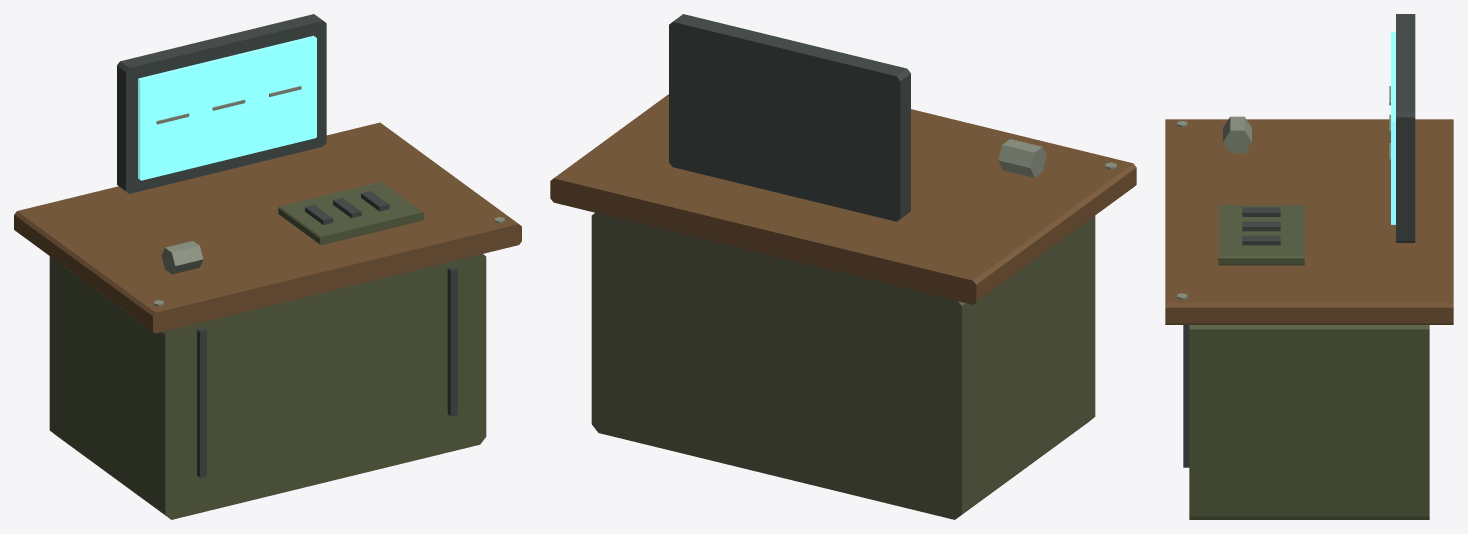
File: ElectronicsBench.gltf
3 renders of one model, left to right at view 1: azimuth 30°, elevation 25°; view 2: azimuth 150°, elevation 25°; view 3: azimuth 270°, elevation 25°, orthographic. The views are drawn at different scales.
Visible parts, largest first — view 1: ElectronicsBench; view 2: ElectronicsBench; view 3: ElectronicsBench.
Boxes of the visible parts, x1=… form: ElectronicsBench: x1=14, y1=14, x2=521, y2=519; ElectronicsBench: x1=550, y1=14, x2=1136, y2=519; ElectronicsBench: x1=1165, y1=14, x2=1453, y2=519.
Bounding box in the file's own units: 0.92 × 0.87 × 0.6.
